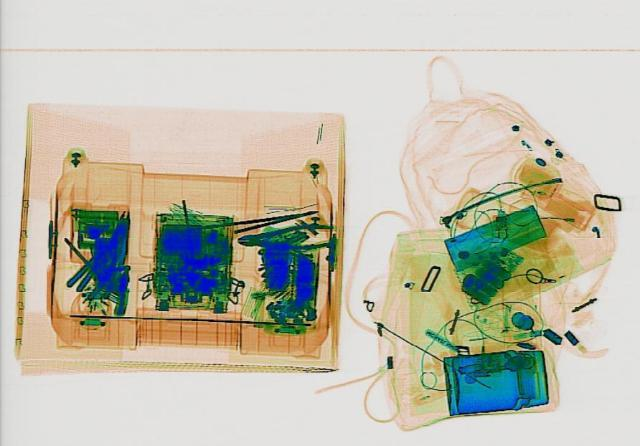Pliers: (232, 219, 334, 253)
